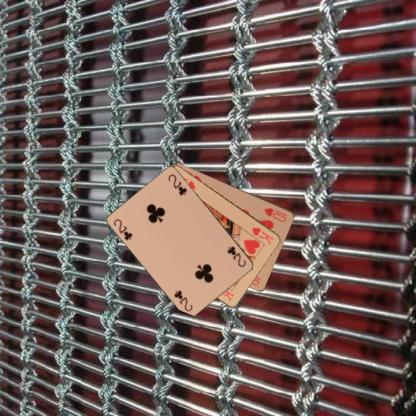10h: (262, 205, 289, 223)
2c: (111, 216, 134, 242), (225, 243, 247, 269)
Kh: (249, 224, 275, 245)
